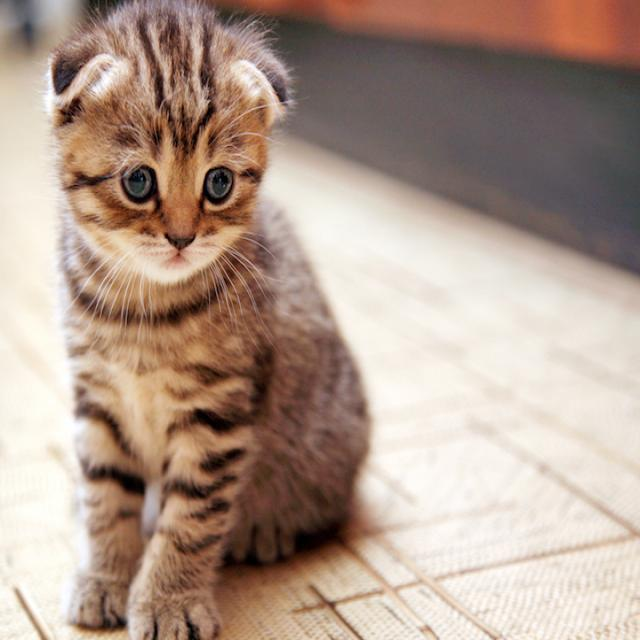Scottish Fold: (42, 0, 378, 640)
